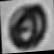correct: (3, 0, 54, 53)
